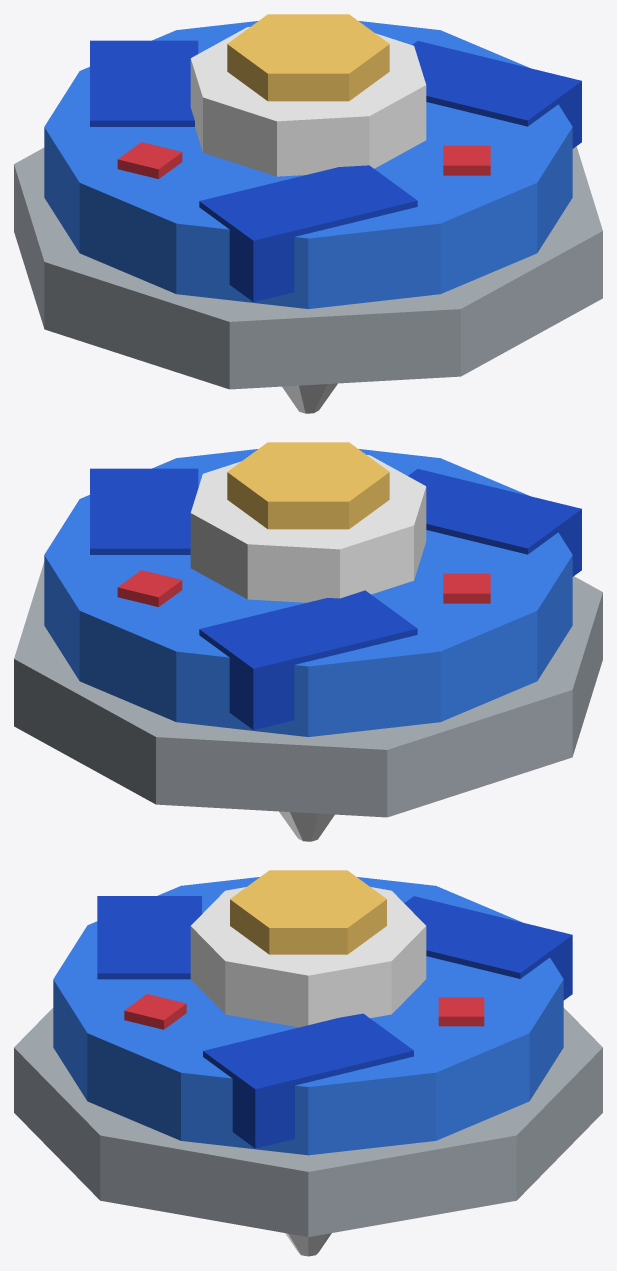
File: spinning_top.glb
The picture shows the model from 3 angles, top to bottom: view 1: azimuth 30°, elevation 25°; view 2: azimuth 150°, elevation 25°; view 3: azimuth 270°, elevation 25°; orthographic projection. The views are drawn at different scales.
Visible parts, largest first — view 1: Cylinder.001, Cylinder, Cylinder.002, Cube.004, Cylinder.003, Cube.002, Cube, Cube.003, Cube.005, Cone; view 2: Cylinder.001, Cylinder, Cylinder.002, Cube.002, Cylinder.003, Cube, Cube.004, Cube.001, Cube.003, Cone; view 3: Cylinder.001, Cylinder, Cylinder.002, Cube, Cylinder.003, Cube.002, Cube.004, Cube.005, Cube.001, Cone.
Part boxes in pixels (x1,y1,x2,y2): Cylinder.001: (44,21,572,308); Cylinder: (14,146,602,389); Cylinder.002: (190,27,426,176); Cube.004: (199,165,417,301); Cylinder.003: (227,14,389,101); Cube.002: (90,40,198,126); Cube: (412,41,581,148); Cube.003: (117,142,182,178); Cube.005: (443,145,490,175); Cone: (282,383,337,413); Cylinder.001: (44,449,572,736); Cylinder: (14,562,602,817); Cylinder.002: (190,455,426,602); Cube.002: (199,590,417,729); Cylinder.003: (227,442,389,529); Cube: (90,468,198,554); Cube.004: (408,469,581,576); Cube.001: (117,570,182,606); Cube.003: (443,573,490,603); Cone: (279,811,334,841); Cylinder.001: (53,877,563,1155); Cylinder: (14,1008,602,1236); Cylinder.002: (190,887,426,1027); Cube: (203,1013,413,1148); Cylinder.003: (230,870,386,954); Cube.002: (404,896,572,1000); Cube.004: (97,896,201,979); Cube.005: (124,994,186,1029); Cube.001: (438,997,484,1026); Cone: (285,1233,331,1256).
Bounding box in the file's own units: 4.5 × 2.97 × 4.5.
